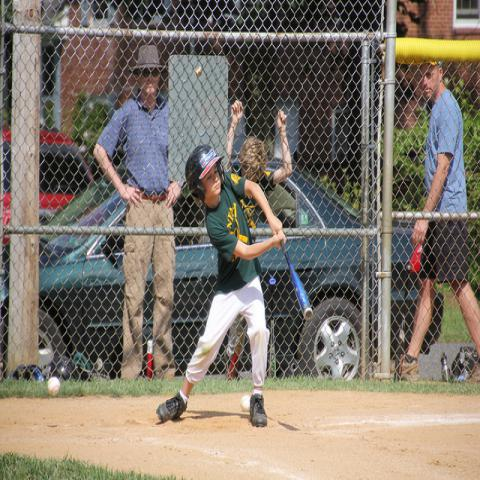car: (0, 164, 446, 384), (2, 128, 92, 228)
